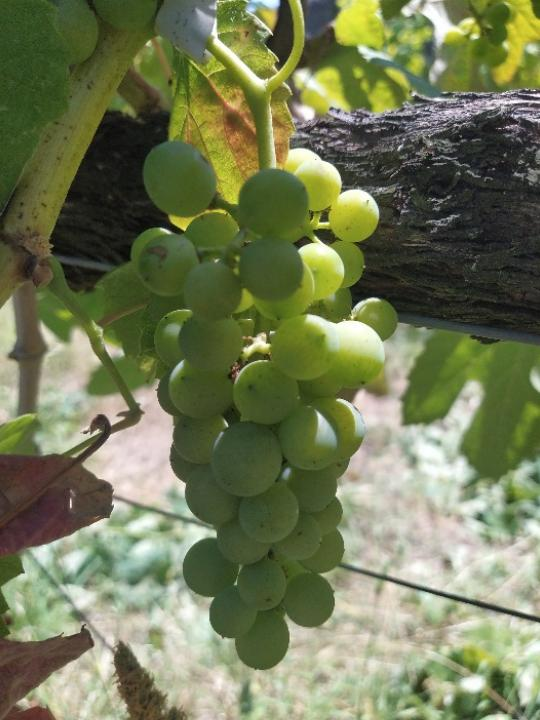grape: (129, 138, 397, 672)
